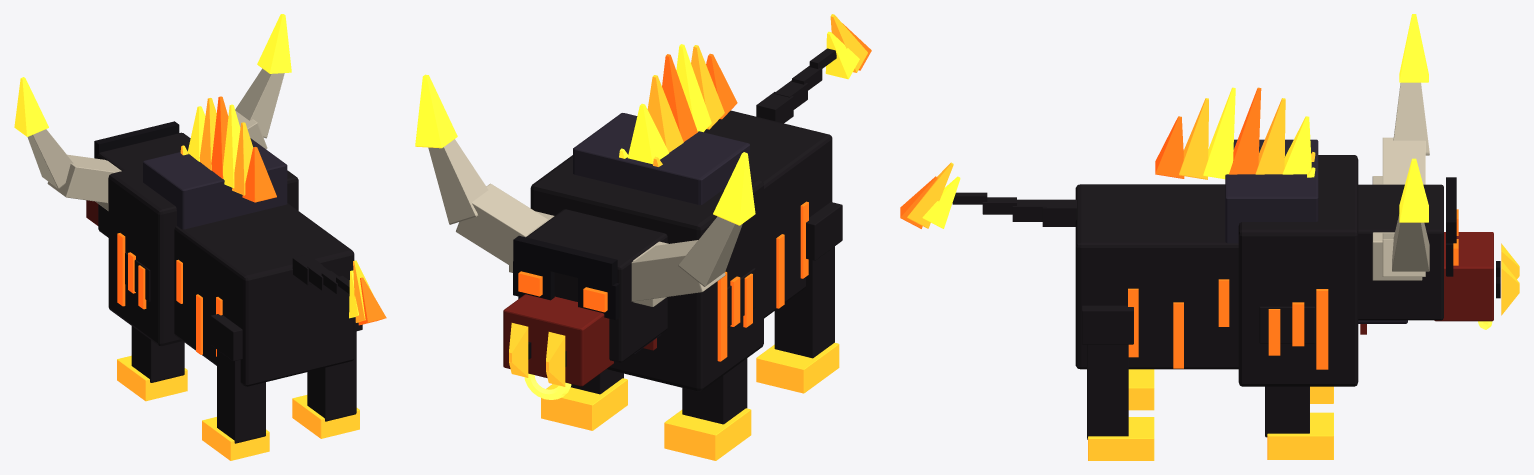
File: flaming-bull.glb
The picture shows the model from 3 angles, left to right: view 1: azimuth 30°, elevation 25°; view 2: azimuth 150°, elevation 25°; view 3: azimuth 270°, elevation 25°; orthographic projection. The views are drawn at different scales.
Visible parts, largest first — view 1: body, head, leg.BR, leg.BL, leg.FR, tail; view 2: body, head, leg.BR, leg.FR, tail, leg.FL; view 3: body, head, leg.BL, leg.FL, tail, leg.BR.
Boxes of the visible parts, left/top/right/bottom form: body: left=108, top=96, right=354, bottom=386; head: left=14, top=14, right=291, bottom=237; leg.BR: left=202, top=314, right=269, bottom=460; leg.BL: left=292, top=317, right=362, bottom=438; leg.FR: left=117, top=252, right=187, bottom=401; tail: left=292, top=254, right=386, bottom=325; body: left=530, top=44, right=832, bottom=391; head: left=415, top=74, right=755, bottom=399; leg.BR: left=756, top=202, right=842, bottom=393; leg.FR: left=664, top=268, right=755, bottom=460; tail: left=756, top=14, right=871, bottom=123; leg.FL: left=541, top=369, right=627, bottom=430; body: left=1075, top=87, right=1407, bottom=386; head: left=1358, top=14, right=1519, bottom=329; leg.BL: left=1082, top=305, right=1154, bottom=460; leg.FL: left=1259, top=306, right=1333, bottom=459; tail: left=900, top=162, right=1076, bottom=228; leg.BR: left=1128, top=369, right=1154, bottom=410.
Bounding box in the file's own units: 0.9392 × 1 × 1.66.
